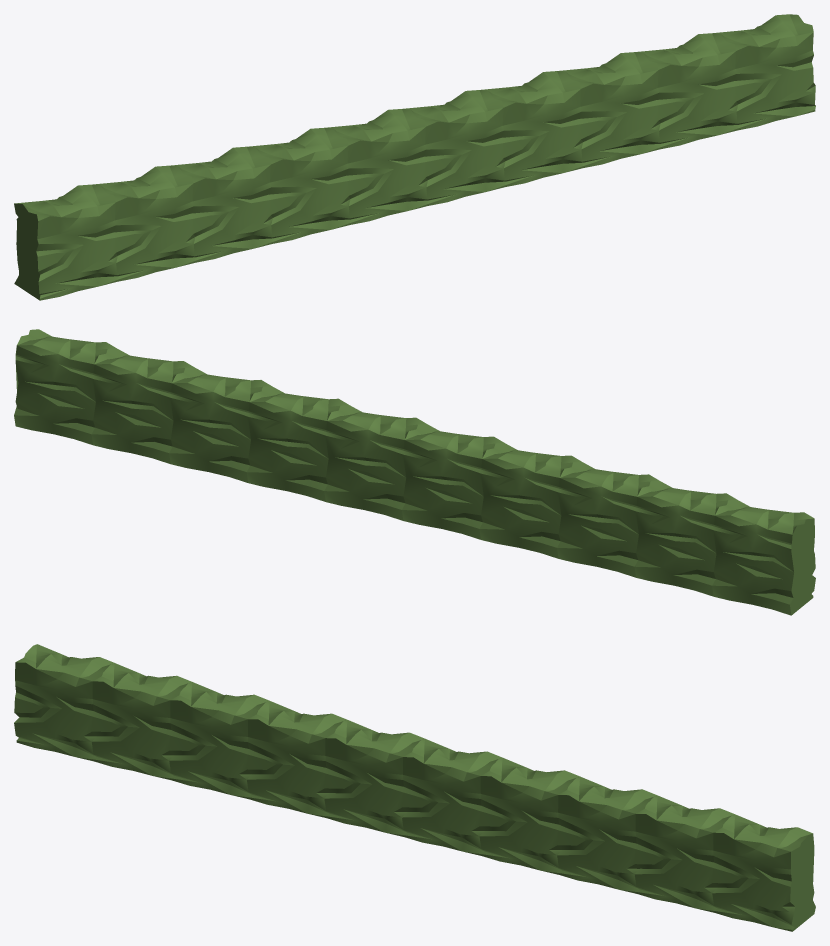
File: fence-small.fbx
The picture shows the model from 3 angles, top to bottom: view 1: azimuth 30°, elevation 25°; view 2: azimuth 150°, elevation 25°; view 3: azimuth 330°, elevation 25°; orthographic projection.
Parts seen in each view (by area): view 1: Hedge_1; view 2: Hedge_1; view 3: Hedge_1.
Part boxes in pixels (x1,y1,x2,y2): Hedge_1: (14,14,815,300); Hedge_1: (14,329,815,615); Hedge_1: (14,644,815,931).
Size of the model in its own units: 456 by 47.27 by 25.42.
